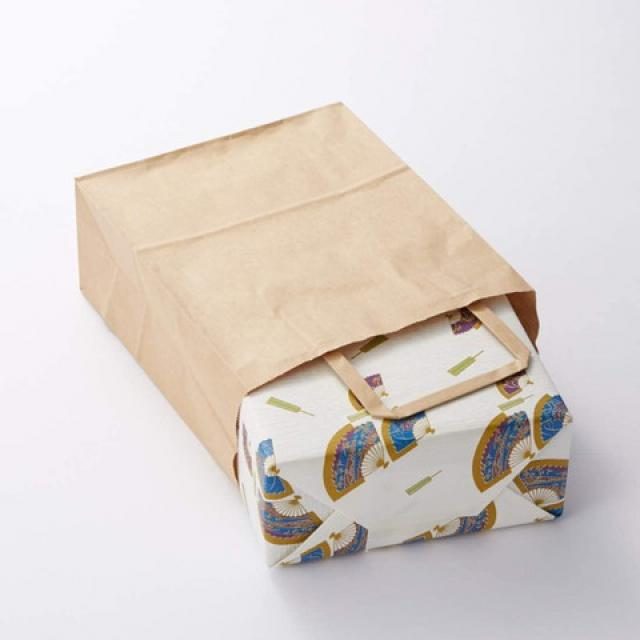paper bag: (58, 98, 547, 496)
